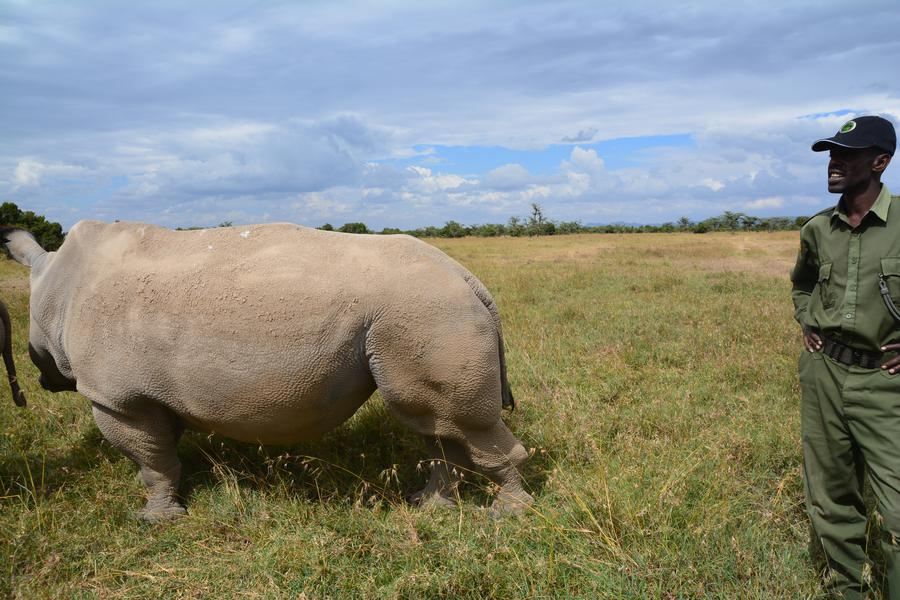rhino: (5, 206, 501, 479)
